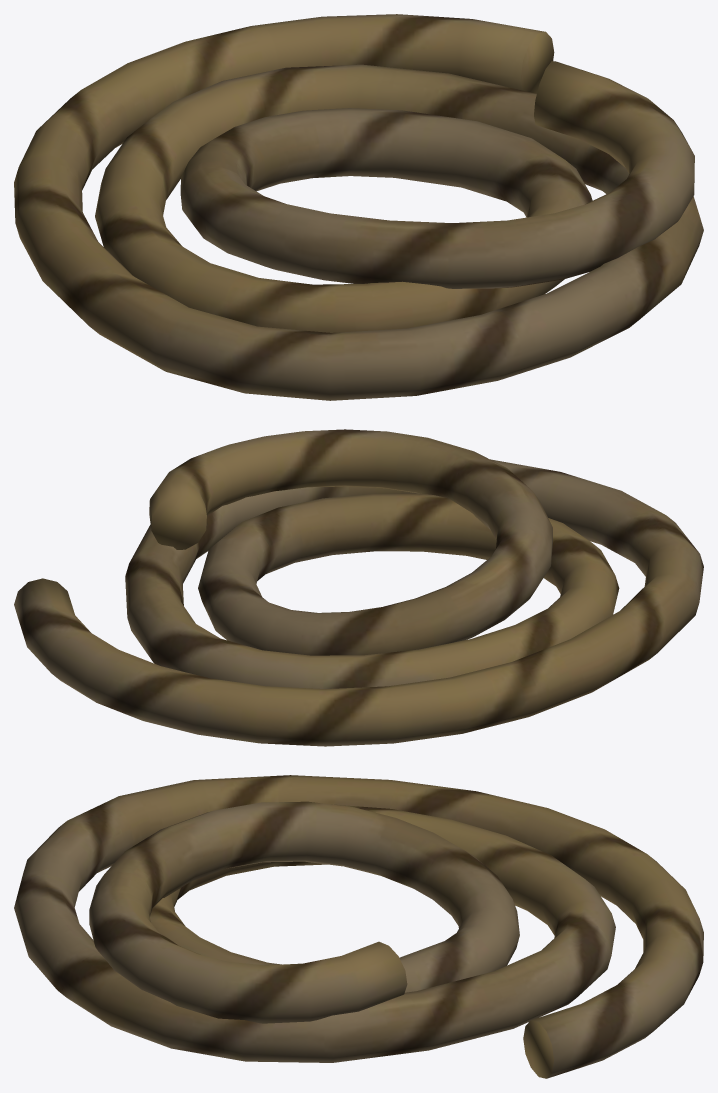
The model's file is rope_1.gltf.
3 renders of one model, top to bottom at view 1: azimuth 30°, elevation 25°; view 2: azimuth 150°, elevation 25°; view 3: azimuth 270°, elevation 25°, orthographic. The views are drawn at different scales.
Parts seen in each view (by area): view 1: Rope_1; view 2: Rope_1; view 3: Rope_1.
Part boxes in pixels (left/top/right/bottom): Rope_1: left=14, top=14, right=703, bottom=400; Rope_1: left=14, top=429, right=703, bottom=746; Rope_1: left=14, top=775, right=703, bottom=1078.
Size of the model in its own units: 0.5574 by 0.0979 by 0.6063.
1 material, 1 textured.
